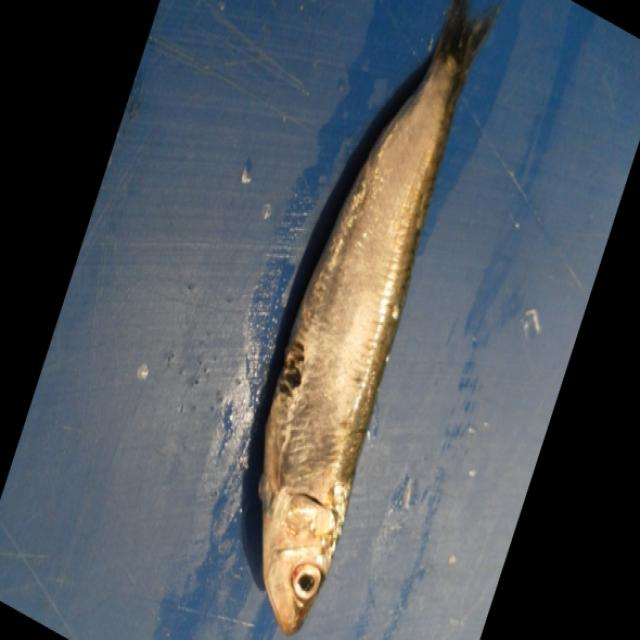Black-Sea-Sprat-tirsi-: (255, 0, 496, 636)
